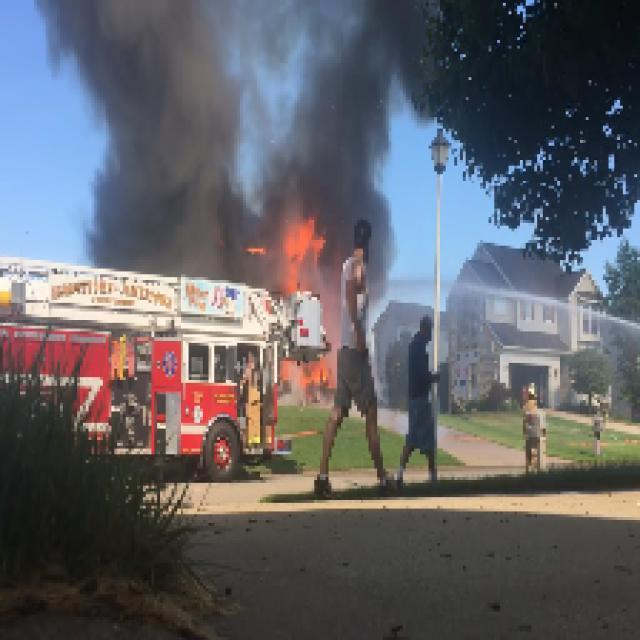Smoke: (46, 3, 246, 243), (246, 2, 423, 212)
